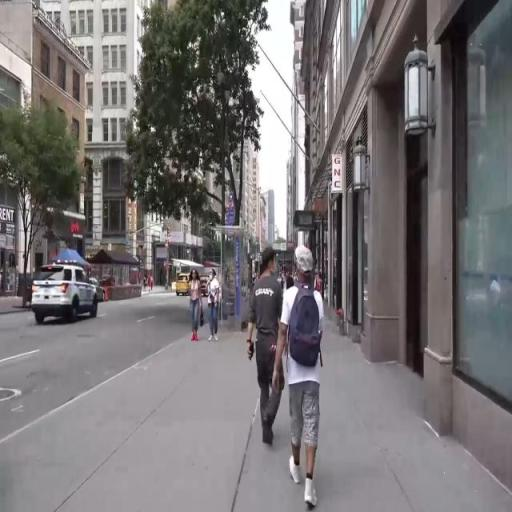person: (284, 244, 327, 509), (248, 245, 286, 447), (207, 271, 225, 339), (190, 269, 205, 344), (148, 274, 153, 295), (152, 275, 156, 289), (145, 275, 148, 293)
